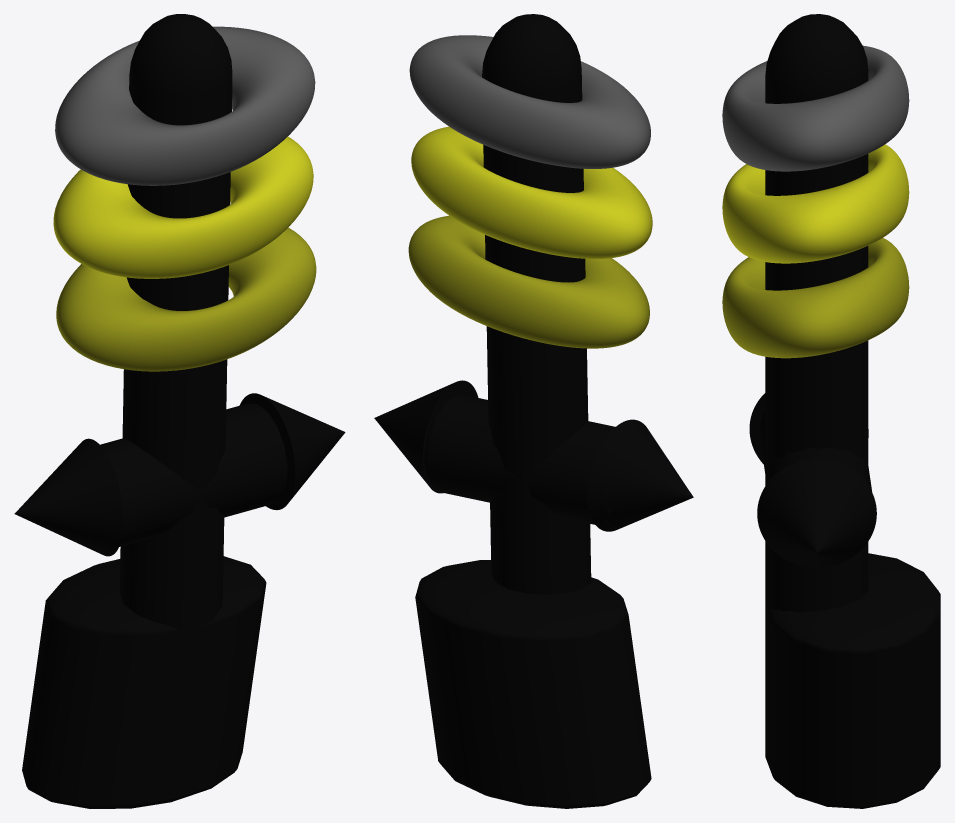
File: metaa.glb
3 renders of one model, left to right at view 1: azimuth 30°, elevation 25°; view 2: azimuth 150°, elevation 25°; view 3: azimuth 270°, elevation 25°, orthographic. The views are drawn at different scales.
Parts seen in each view (by area): view 1: mesh_id70, mesh_id29, mesh_id37, mesh_id55, mesh_id49, mesh_id61, mesh_id78, mesh_id72; view 2: mesh_id70, mesh_id29, mesh_id37, mesh_id55, mesh_id49, mesh_id61, mesh_id78, mesh_id72; view 3: mesh_id70, mesh_id29, mesh_id37, mesh_id55, mesh_id49, mesh_id72, mesh_id61, mesh_id78.
Boxes of the visible parts, left/top/right/bottom form: mesh_id70: left=22, top=556, right=266, bottom=808; mesh_id29: left=119, top=14, right=232, bottom=660; mesh_id37: left=55, top=26, right=315, bottom=185; mesh_id55: left=56, top=227, right=316, bottom=371; mesh_id49: left=53, top=136, right=313, bottom=278; mesh_id61: left=100, top=404, right=287, bottom=546; mesh_id78: left=14, top=438, right=123, bottom=556; mesh_id72: left=239, top=393, right=345, bottom=510; mesh_id70: left=415, top=560, right=651, bottom=808; mesh_id29: left=482, top=14, right=591, bottom=594; mesh_id37: left=409, top=35, right=650, bottom=168; mesh_id55: left=408, top=215, right=649, bottom=348; mesh_id49: left=411, top=126, right=652, bottom=258; mesh_id61: left=424, top=395, right=623, bottom=528; mesh_id78: left=587, top=419, right=693, bottom=531; mesh_id72: left=374, top=380, right=478, bottom=493; mesh_id70: left=765, top=553, right=940, bottom=808; mesh_id29: left=765, top=14, right=868, bottom=634; mesh_id37: left=722, top=45, right=909, bottom=171; mesh_id55: left=722, top=238, right=909, bottom=358; mesh_id49: left=722, top=144, right=909, bottom=263; mesh_id72: left=757, top=459, right=876, bottom=567; mesh_id61: left=759, top=410, right=871, bottom=491; mesh_id78: left=749, top=393, right=868, bottom=464.
Size of the model in its own units: 0.2199 by 0.4894 by 0.1254.
Materials: 8 (8 with a texture image).
